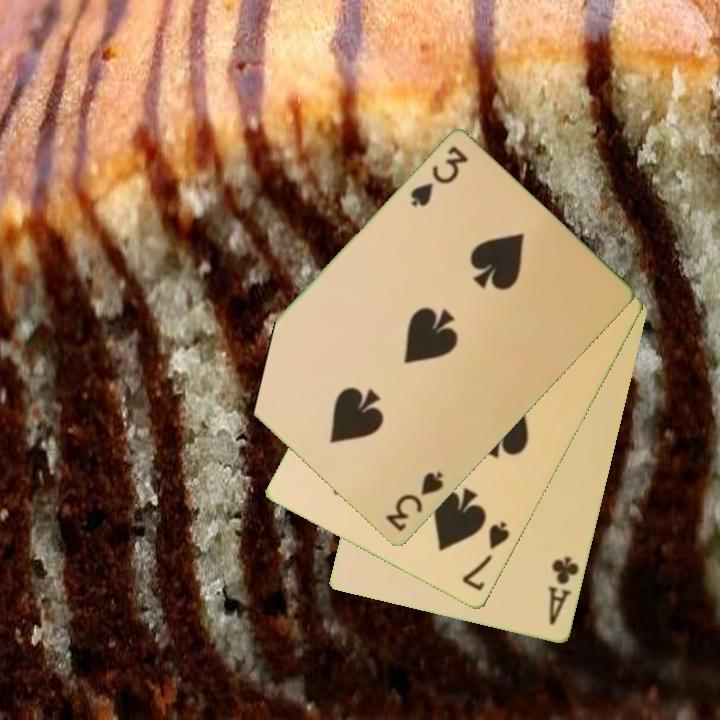3s: (407, 143, 472, 211), (382, 468, 447, 535)
7s: (459, 518, 513, 595)
Ac: (544, 553, 583, 629)
